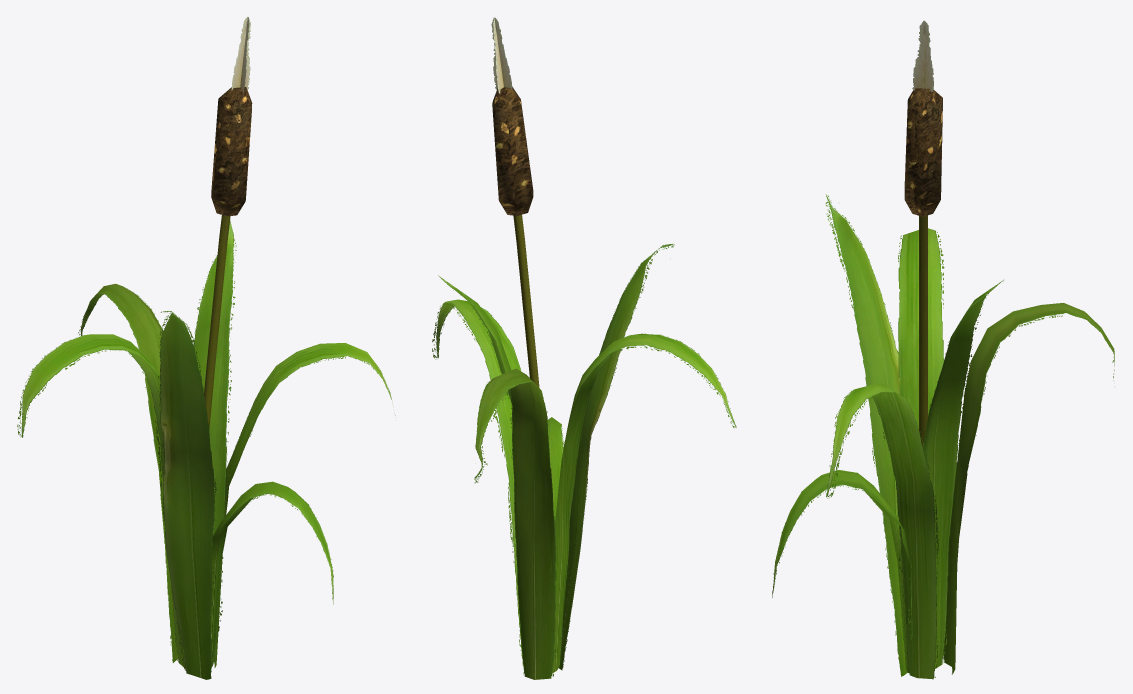
The model's file is reed02.obj.
The picture shows the model from 3 angles, left to right: view 1: azimuth 30°, elevation 25°; view 2: azimuth 150°, elevation 25°; view 3: azimuth 270°, elevation 25°; orthographic projection. The views are drawn at different scales.
Visible parts, largest first — view 1: reed02; view 2: reed02; view 3: reed02.
Part boxes in pixels (left/top/right/bottom): reed02: left=17, top=17, right=395, bottom=679; reed02: left=432, top=17, right=736, bottom=679; reed02: left=772, top=20, right=1114, bottom=679.
Size of the model in its own units: 70.53 by 127 by 58.53.
